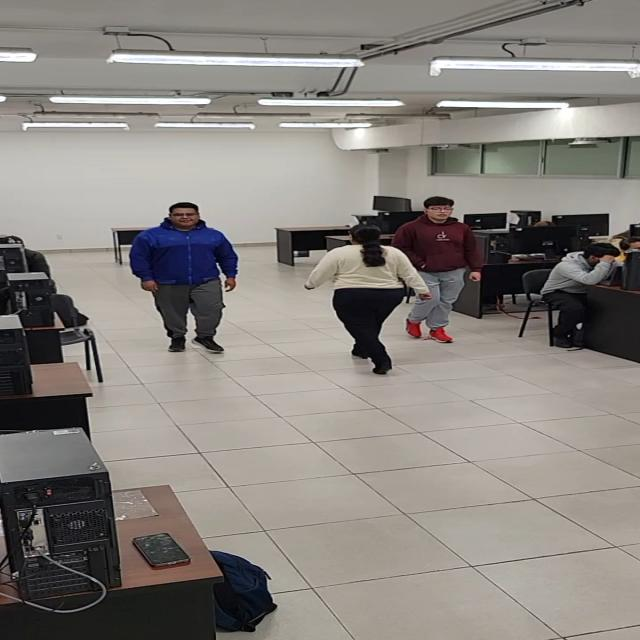Persona: (117, 200, 240, 356), (306, 226, 422, 376), (399, 193, 486, 345)
